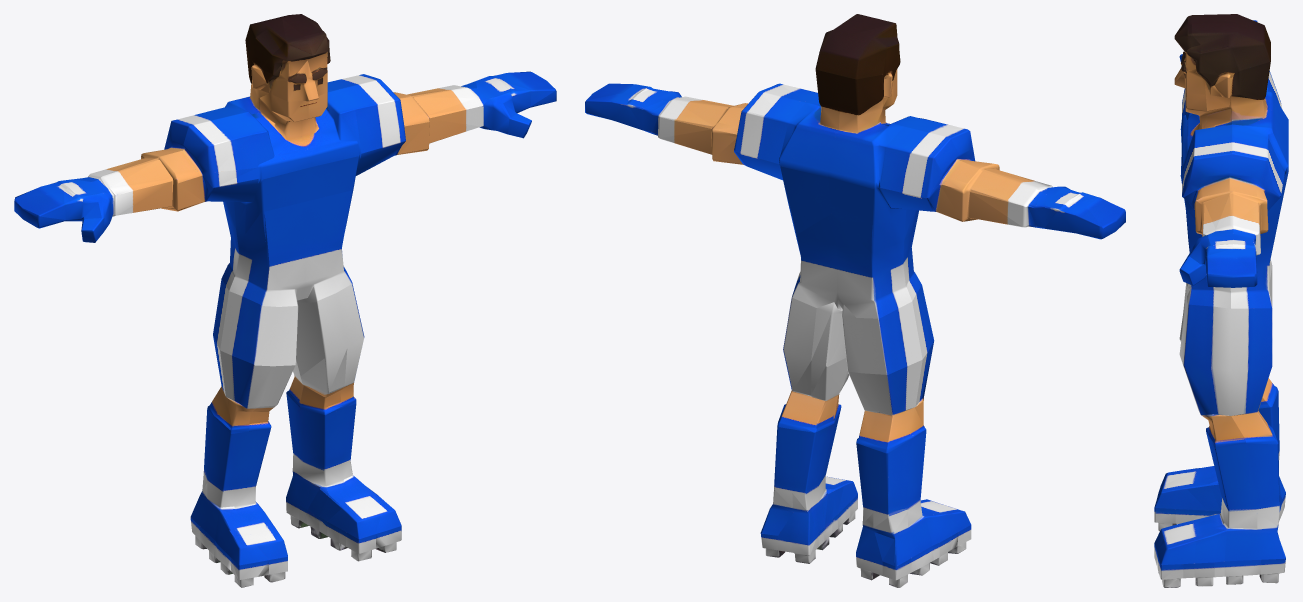
The model's file is new-base-player.glb.
The picture shows the model from 3 angles, left to right: view 1: azimuth 30°, elevation 25°; view 2: azimuth 150°, elevation 25°; view 3: azimuth 270°, elevation 25°; orthographic projection.
Size of the model in its own units: 1.91 by 1.82 by 0.4188.
Materials: 1 (1 with a texture image).
